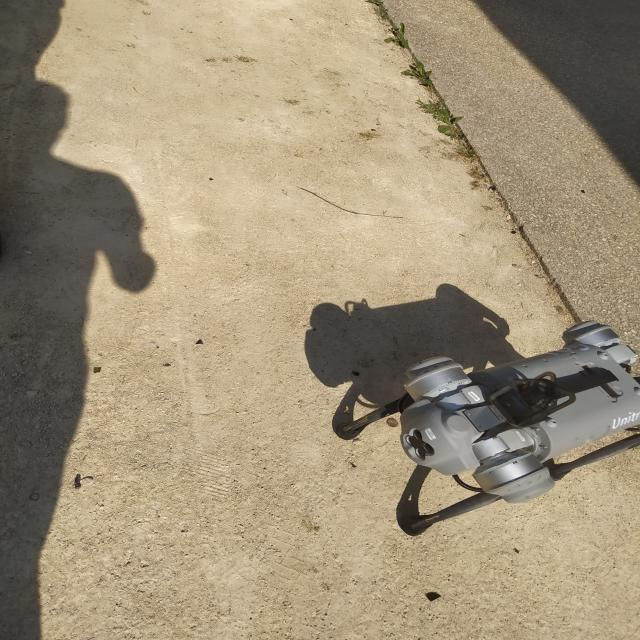unitree-go1-robot: (327, 318, 640, 548)
